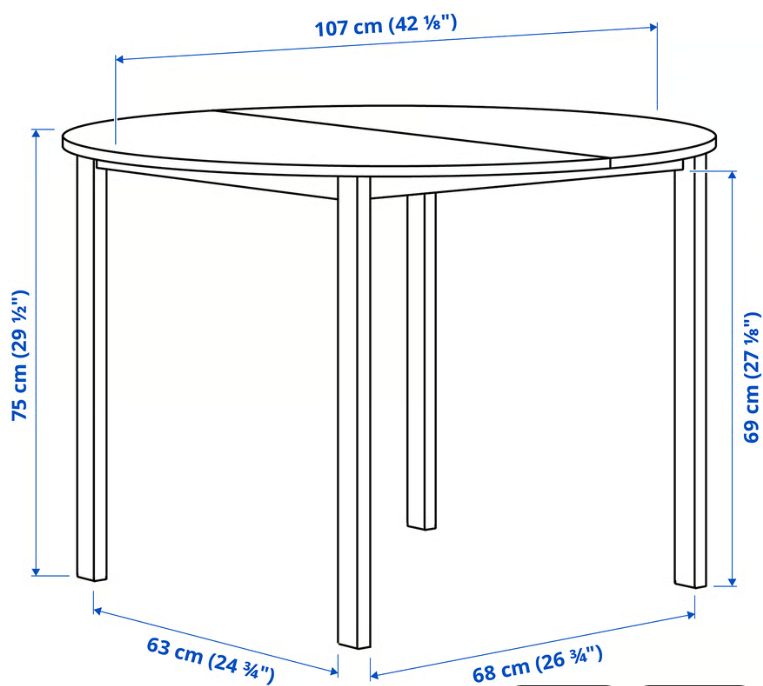table_legs: (337, 176, 371, 649), (675, 154, 706, 588), (77, 156, 107, 581), (408, 192, 436, 530)
table_support: (371, 159, 684, 199), (97, 161, 338, 199)
table_top: (62, 105, 717, 176)
